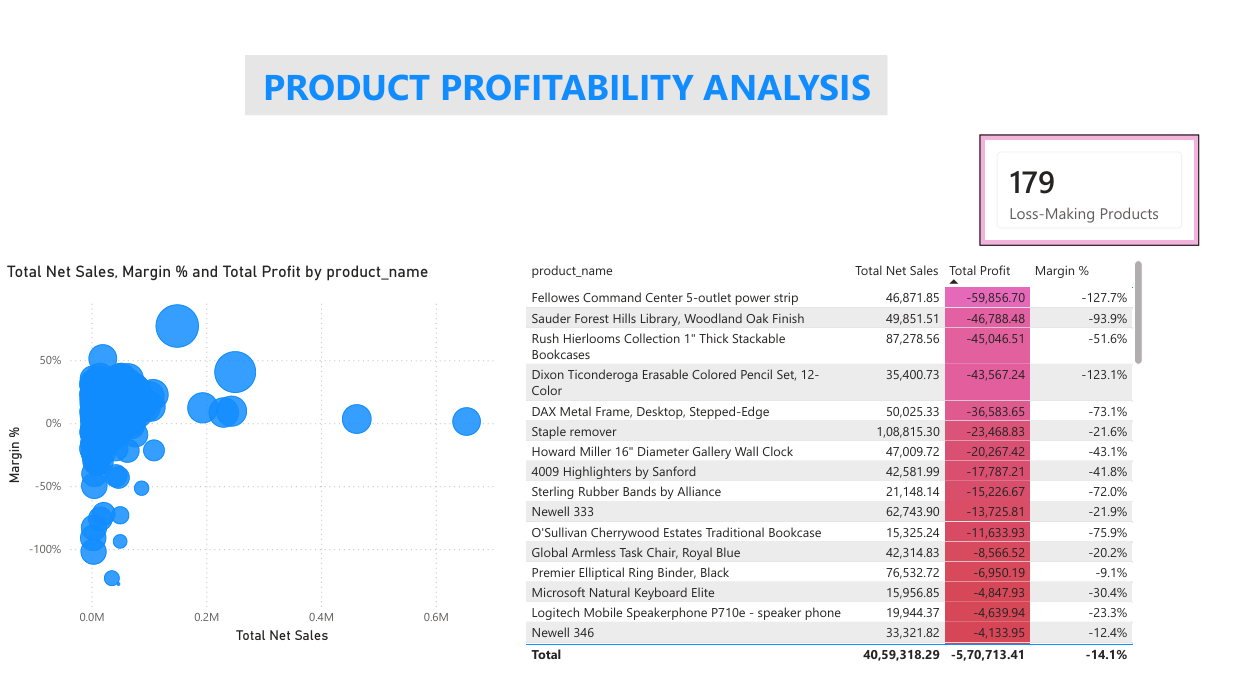

This screenshot's page, from the dashboard's own definition file:
{"tool":"powerbi","page":{"name":"Profitability","canvas":[1280,720],"ordinal":1},"visuals":[{"type":"scatterChart","fields":{"X":["Cleaned_Data.Total Net Sales"],"Y":["Cleaned_Data.Margin %"],"Size":["Cleaned_Data.Total Profit"],"Category":["Cleaned_Data.product_name"]},"box":[0,296.2,531.2,401.2],"z":0},{"type":"tableEx","fields":{"Values":["Cleaned_Data.product_name","Cleaned_Data.Total Net Sales","Cleaned_Data.Total Profit","Cleaned_Data.Margin %"]},"box":[541.2,288.8,652.5,431.2],"z":1000},{"type":"cardVisual","fields":{"Data":["Cleaned_Data.Loss-Making Products"]},"box":[1018.8,162.5,229.2,116.6],"z":2000},{"type":"textbox","box":[253.8,81.2,668.8,61.2],"z":2001}]}

Visuals, with their boxes in screenshot pixels (x1, y1, x2, y2), scaled from the page's 1280x720 canvas onto the 1234x676 screenshot:
scatterChart - Cleaned_Data.Total Net Sales x Cleaned_Data.Margin %: (x1=0, y1=278, x2=512, y2=655)
tableEx - Cleaned_Data.product_name x Cleaned_Data.Total Net Sales: (x1=522, y1=271, x2=1151, y2=675)
cardVisual - Cleaned_Data.Loss-Making Products: (x1=982, y1=153, x2=1203, y2=262)
textbox: (x1=245, y1=76, x2=889, y2=134)
